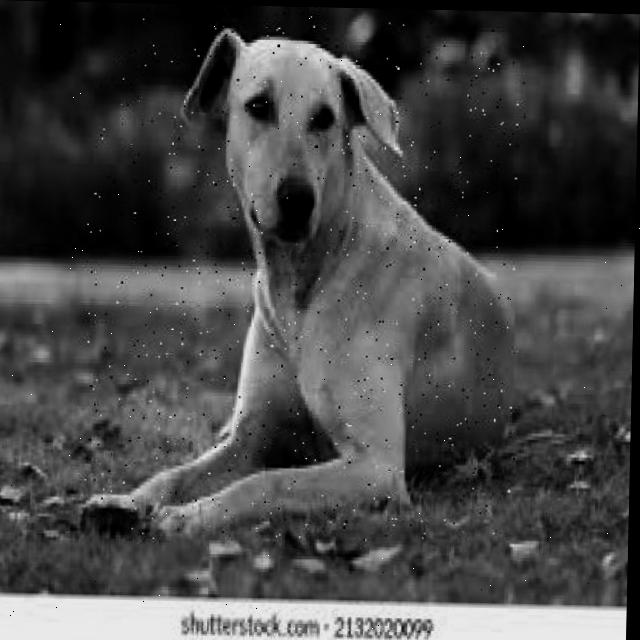Dog: (81, 8, 529, 551)
